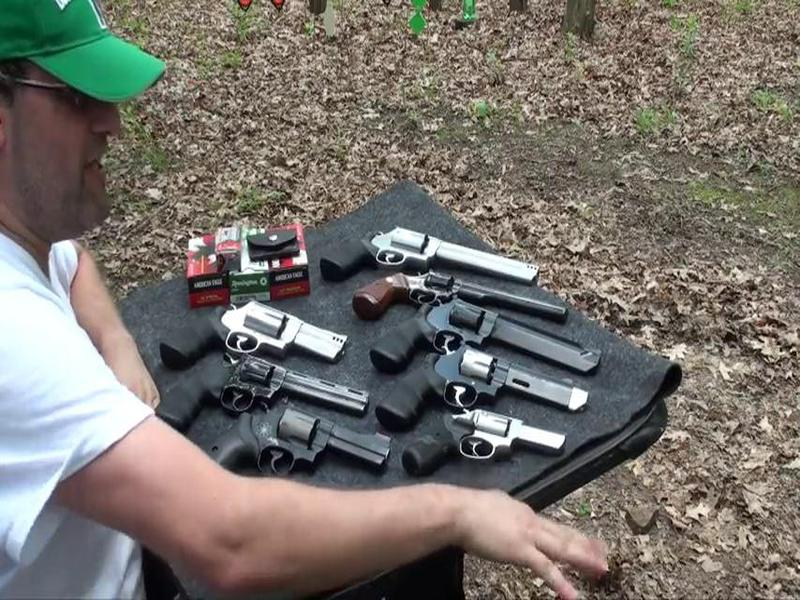Revolver: (367, 341, 585, 436)
